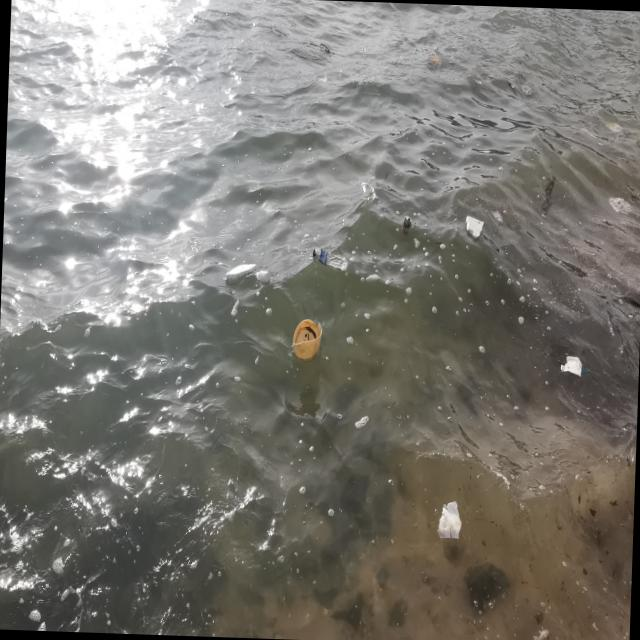can: (402, 216, 414, 236)
foam: (438, 500, 464, 537), (226, 263, 257, 284), (559, 353, 587, 376), (466, 216, 485, 239)
plastic bottle: (313, 248, 351, 274), (256, 271, 272, 284)
